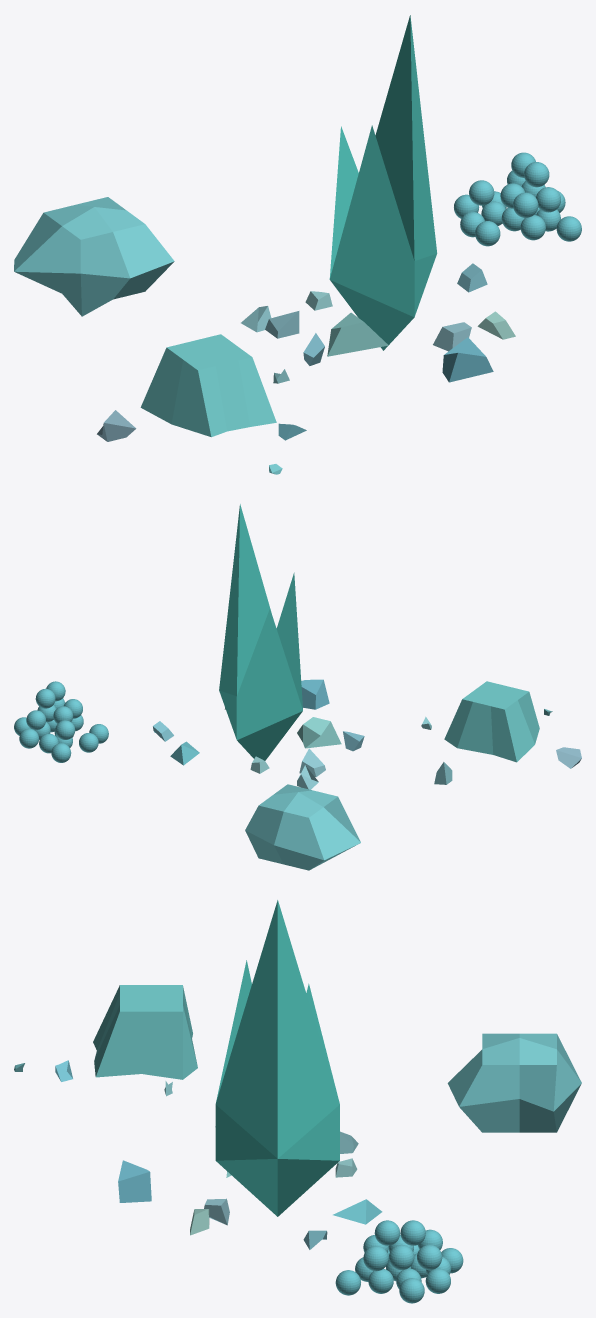
Rendered from Fire-on-Ice.fbx.
3 renders of one model, top to bottom at view 1: azimuth 30°, elevation 25°; view 2: azimuth 150°, elevation 25°; view 3: azimuth 270°, elevation 25°, orthographic. The views are drawn at different scales.
Parts seen in each view (by area): view 1: Ice shard, Cube, Ice cube, Sphere, Cube.003, Cube.001, Cube.014, Cube.005, Cube.010, Cube.006; view 2: Ice shard, Cube, Ice cube, Sphere, Cube.003, Cube.001; view 3: Ice shard, Cube, Ice cube, Sphere, Cube.001, Cube.007.
Boxes of the visible parts, <box> form: Ice shard: <box>329,15,437,350</box>; Cube: <box>14,197,174,316</box>; Ice cube: <box>140,334,276,437</box>; Sphere: <box>454,152,581,246</box>; Cube.003: <box>327,312,388,356</box>; Cube.001: <box>442,337,493,382</box>; Cube.014: <box>97,410,136,441</box>; Cube.005: <box>433,322,471,351</box>; Cube.010: <box>265,311,299,338</box>; Cube.006: <box>477,311,515,339</box>; Ice shard: <box>219,504,302,760</box>; Cube: <box>245,784,360,870</box>; Ice cube: <box>444,681,539,762</box>; Sphere: <box>14,681,108,762</box>; Cube.003: <box>297,717,341,748</box>; Cube.001: <box>301,679,329,709</box>; Ice shard: <box>215,900,339,1216</box>; Cube: <box>447,1033,581,1132</box>; Ice cube: <box>93,985,197,1079</box>; Sphere: <box>335,1220,463,1303</box>; Cube.001: <box>118,1160,151,1202</box>; Cube.007: <box>333,1199,382,1224</box>.
Bounding box in the file's own units: 1103 × 587 × 913.
